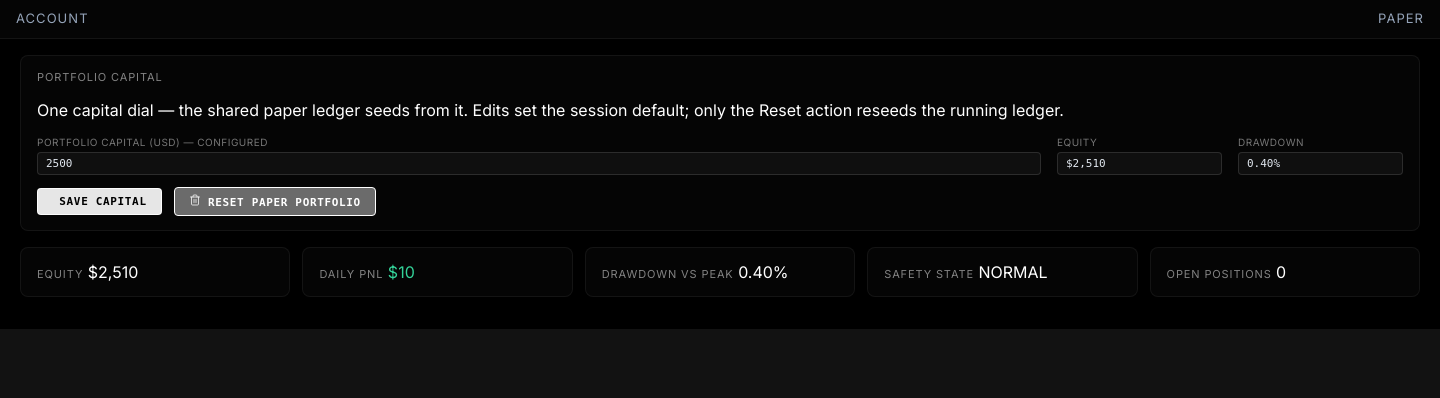
Test: AccountProfile — mode matrix › reset requires confirmation then posts
The image size is (1440, 398).
Click the button "Reset Paper Portfolio" at (275, 202), box 174,187 -> 376,216
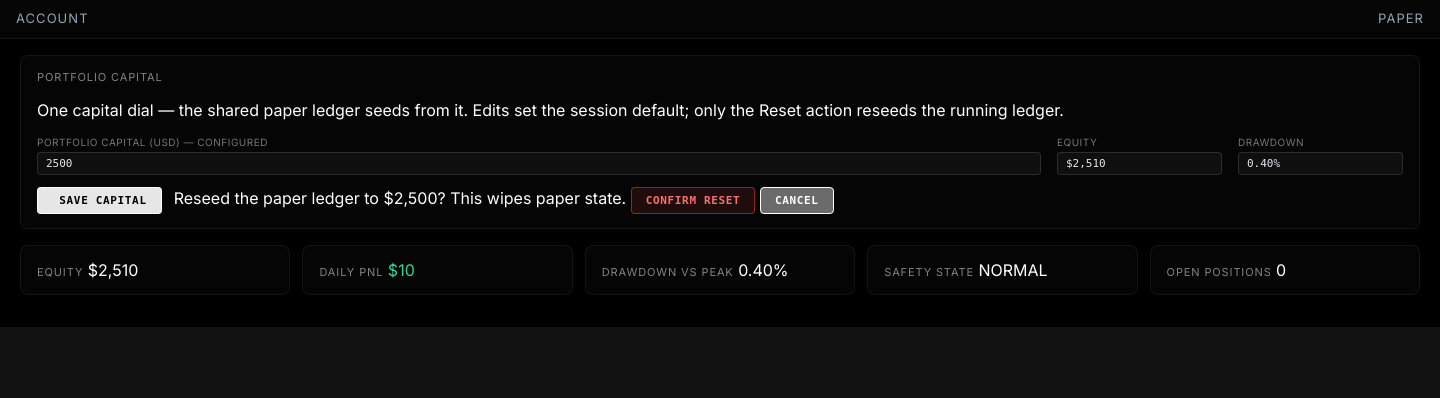
Check: the button "Confirm Reset" is shown
Click the button "Confirm Reset" at (693, 200), box 631,187 -> 755,214
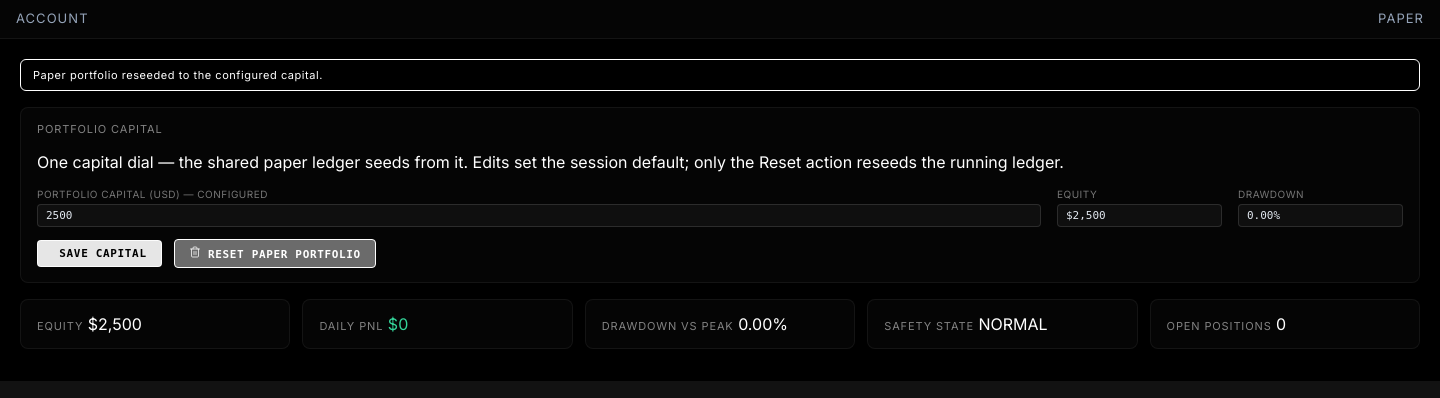
Check: the text "Paper portfolio reseeded to the configured capital." is shown, box 20,59 -> 1420,91
